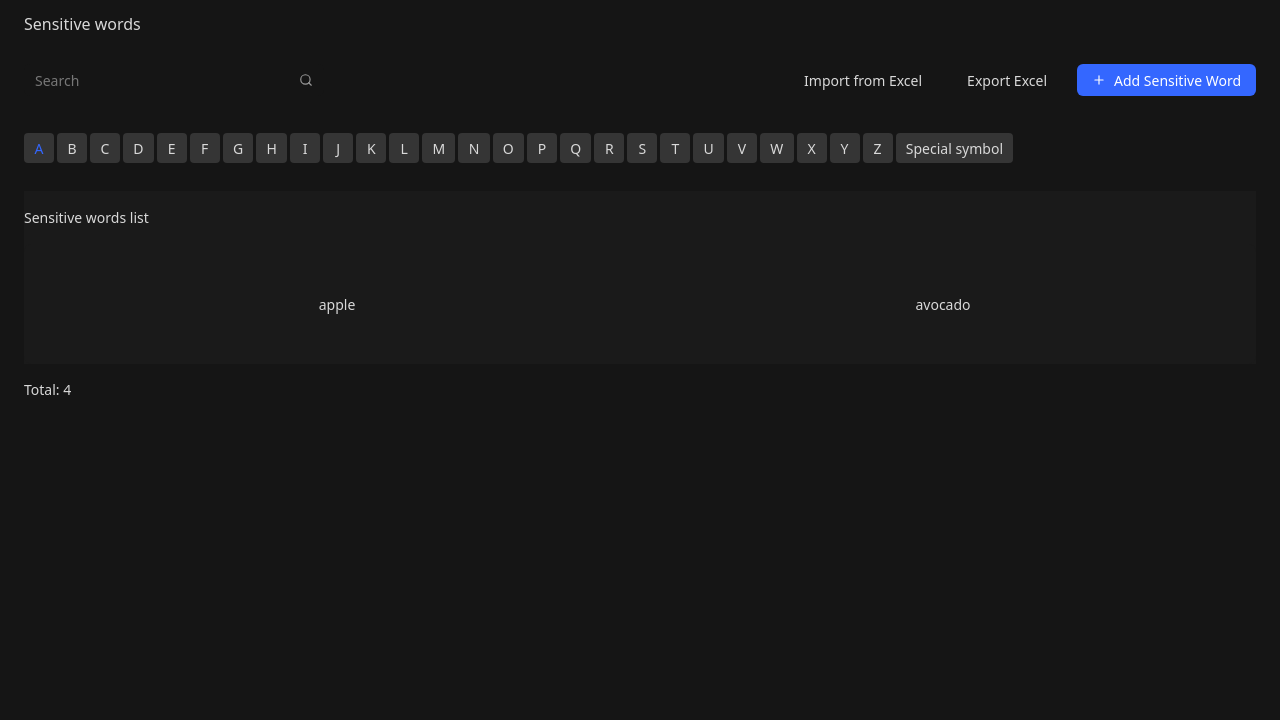
SensitiveWordsPage › opens the Add dialog and saves the typed word
Expected: the list item "apple" is shown, [319, 294, 355, 314]
Click the button "Add Sensitive Word".
click(1166, 80)  # box [1077, 64, 1256, 96]
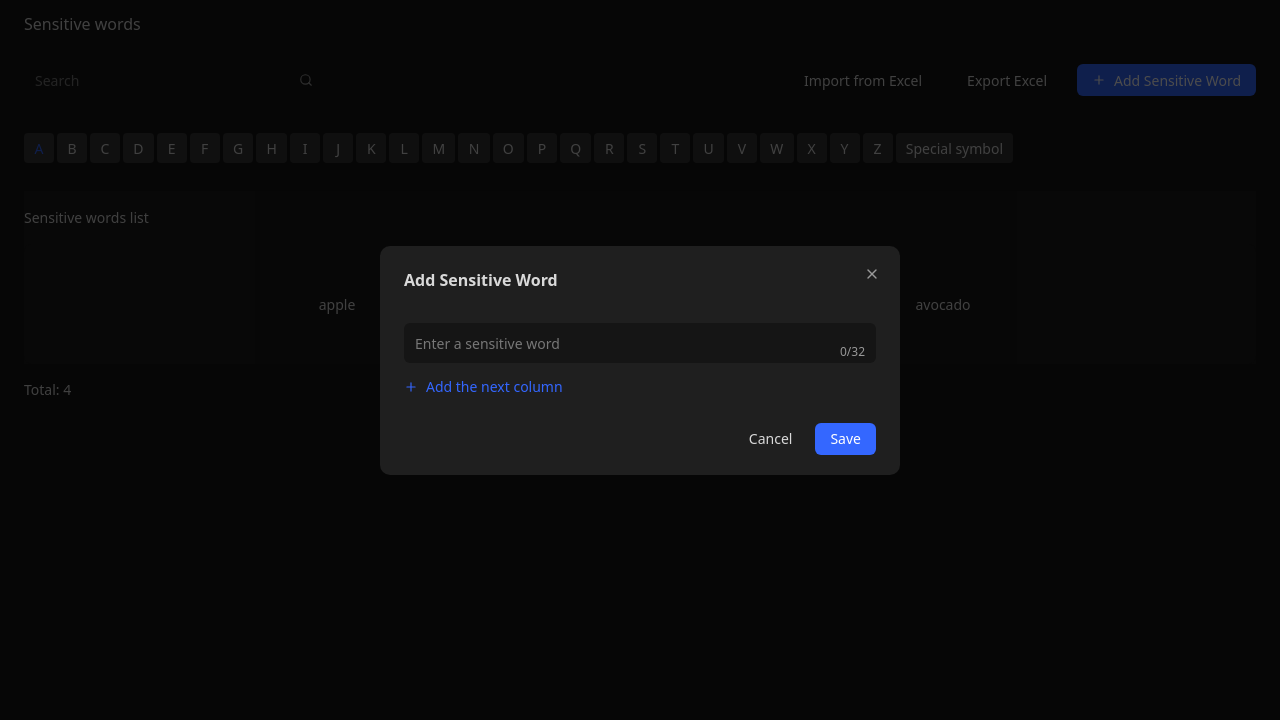
Type "cherry" into the field named "Sensitive word 1".
click(616, 343); type("cherry")  # box [404, 323, 828, 363]
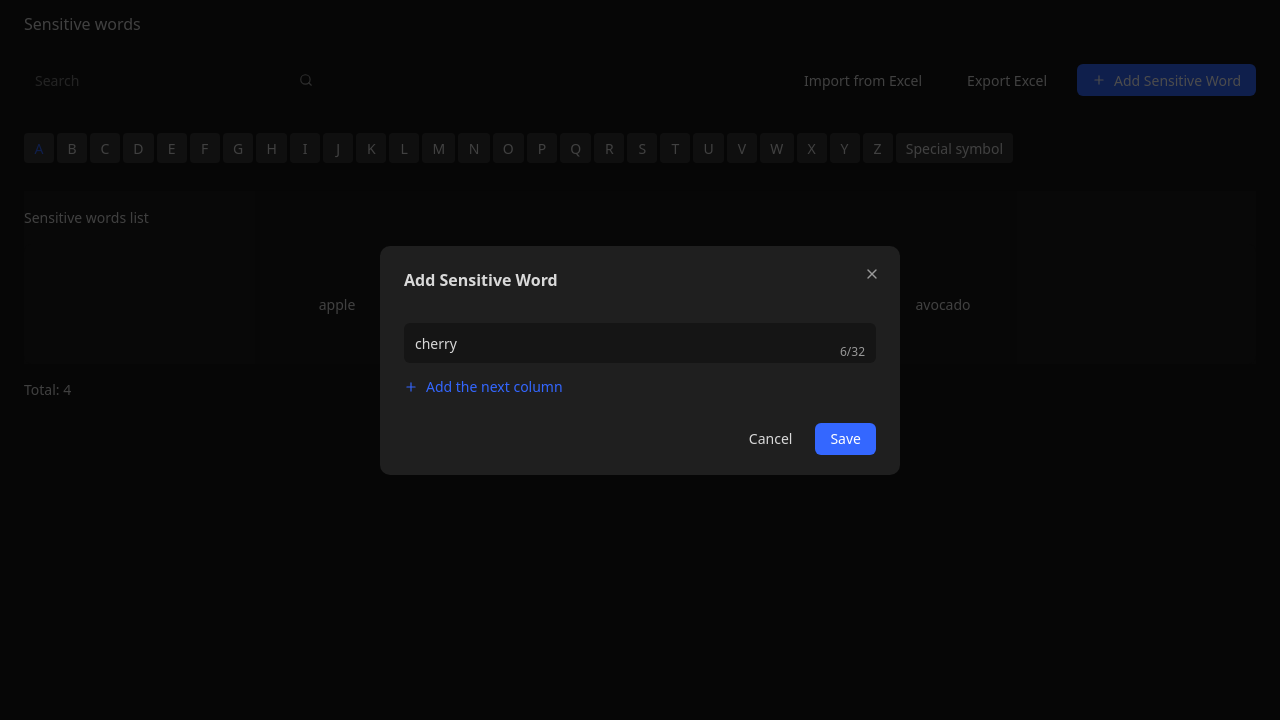
Click the button "Save".
click(846, 438)  # box [815, 422, 876, 454]
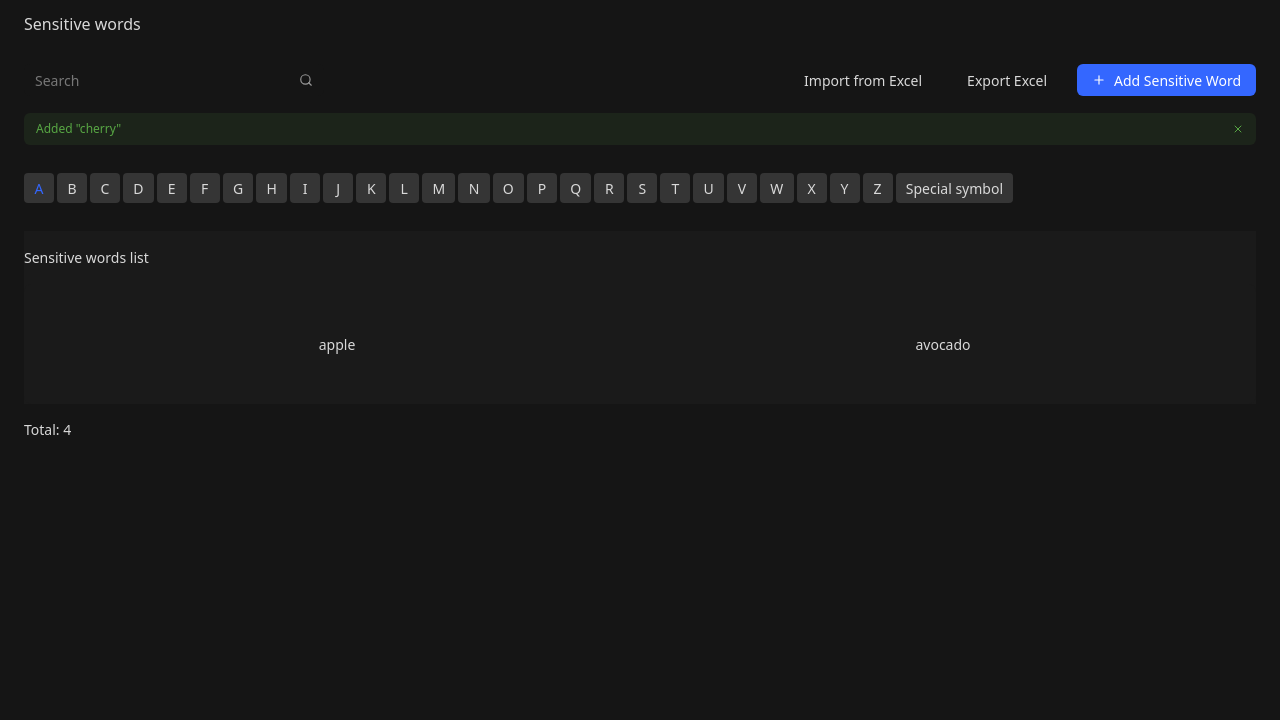
Now the dialog is gone
